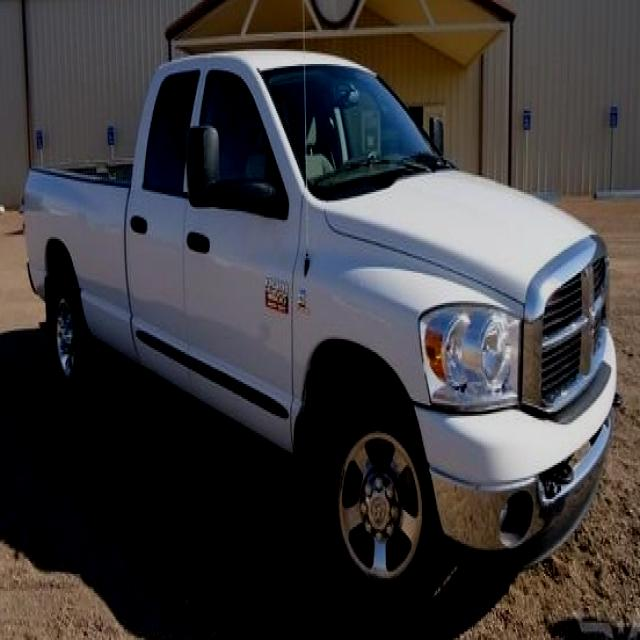CMT: (27, 39, 611, 614)
